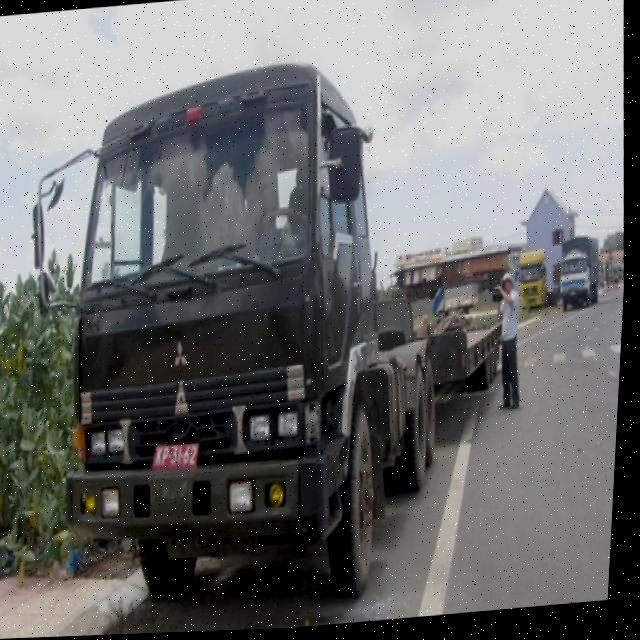car: (0, 45, 488, 625)
plate: (147, 436, 207, 481)
